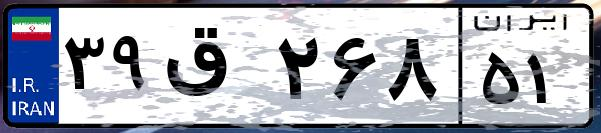1: (525, 38, 570, 115)
2: (270, 28, 330, 110)
3: (57, 26, 110, 100)
5: (475, 38, 525, 113)
6: (330, 28, 385, 110)
8: (385, 28, 445, 110)
9: (110, 28, 158, 98)
ق: (158, 20, 270, 120)
